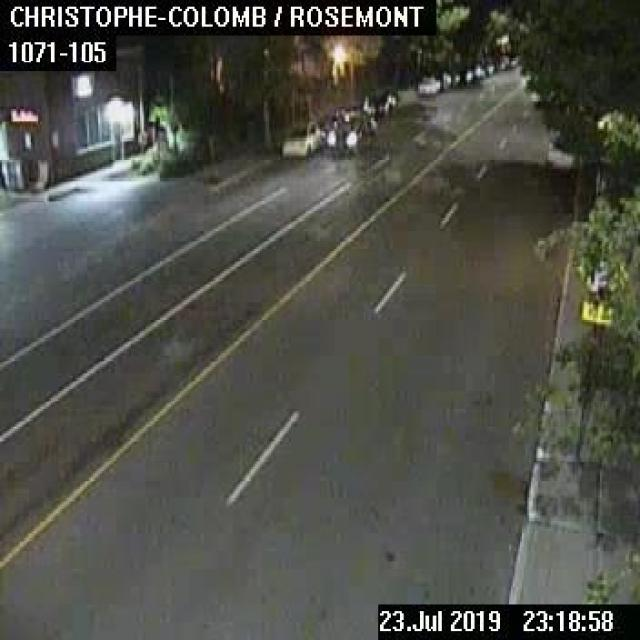vehicle: (326, 109, 367, 152), (282, 120, 318, 156), (546, 134, 573, 167), (366, 93, 394, 116), (416, 75, 438, 91)
